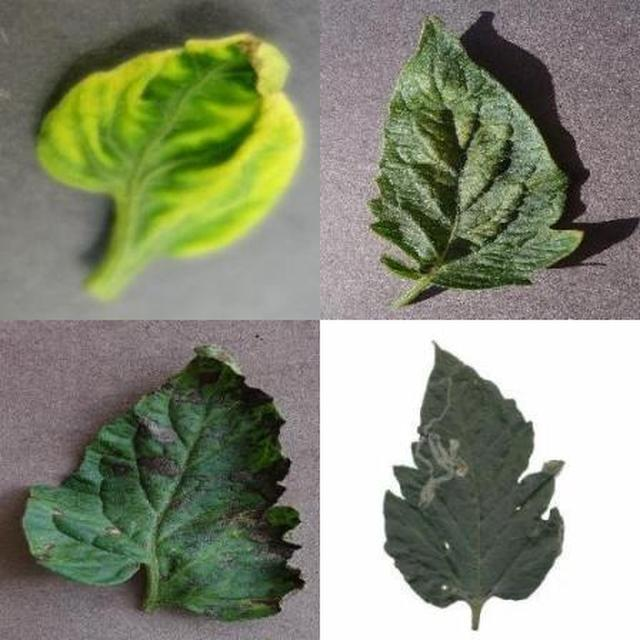Yellow Leaf Curl Virus: (236, 210, 640, 640)
